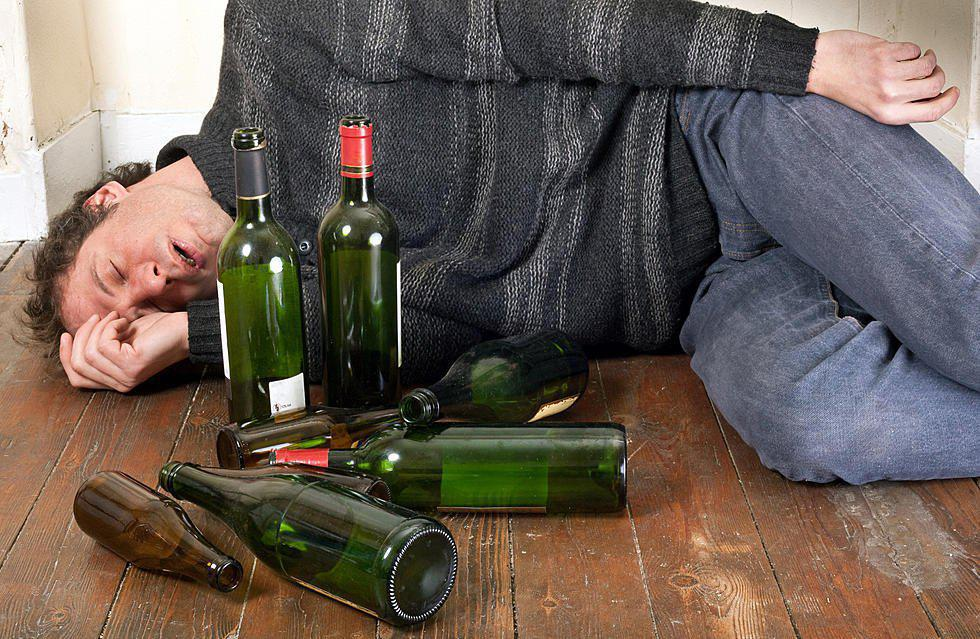Drunk: (58, 199, 226, 330)
